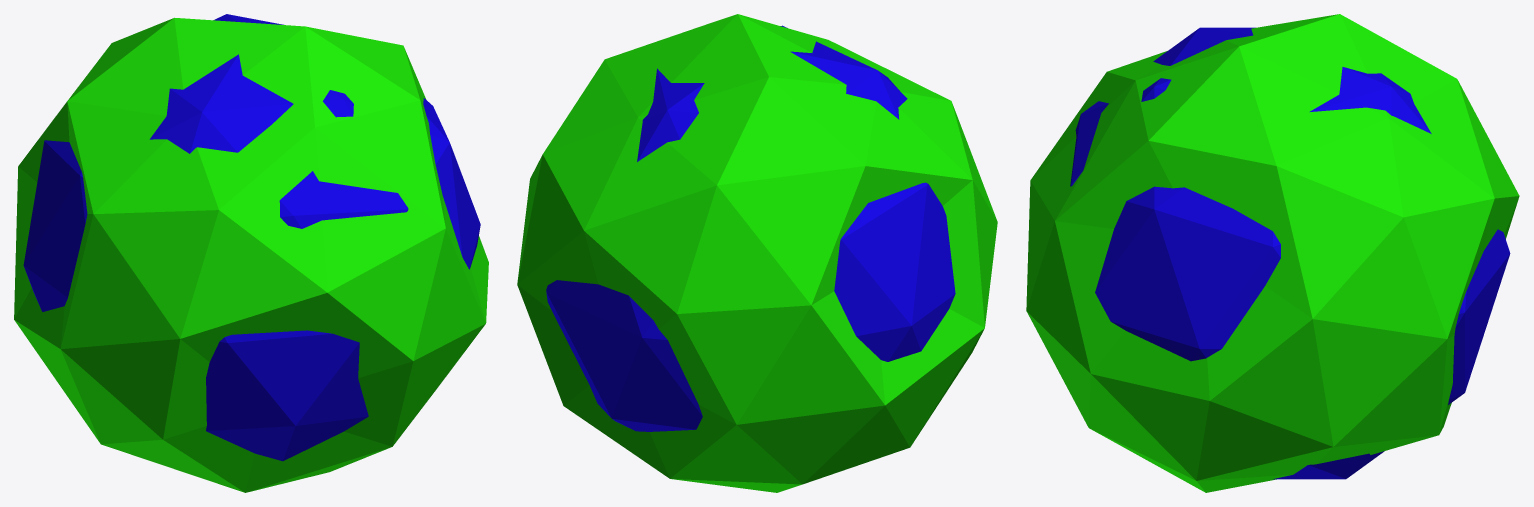
The picture shows the model from 3 angles, left to right: view 1: azimuth 30°, elevation 25°; view 2: azimuth 150°, elevation 25°; view 3: azimuth 270°, elevation 25°; orthographic projection. The views are drawn at different scales.
Parts seen in each view (by area): view 1: Icosphere.001, Icosphere; view 2: Icosphere.001, Icosphere; view 3: Icosphere.001, Icosphere.
Boxes of the visible parts, x1=… form: Icosphere.001: x1=14, y1=17, x2=488, y2=492; Icosphere: x1=23, y1=14, x2=480, y2=461; Icosphere.001: x1=517, y1=14, x2=997, y2=492; Icosphere: x1=546, y1=25, x2=955, y2=431; Icosphere.001: x1=1026, y1=14, x2=1519, y2=492; Icosphere: x1=1070, y1=27, x2=1510, y2=479.
Size of the model in its own units: 2.26 by 2.27 by 2.25.
